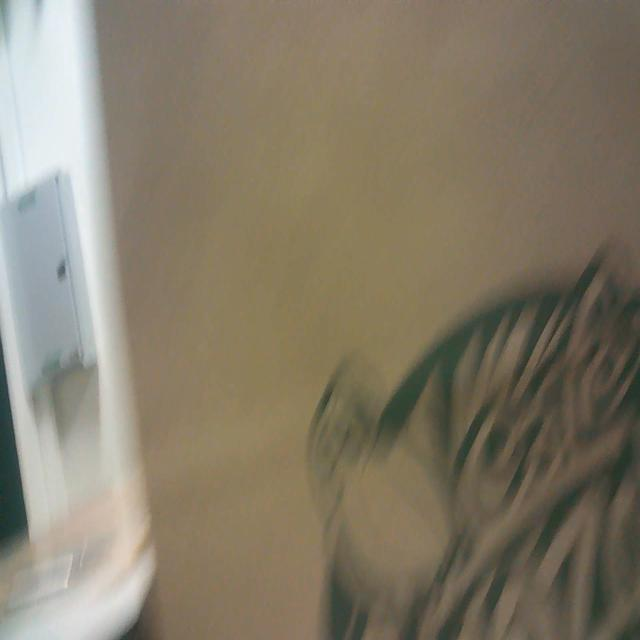bag: (80, 0, 640, 640)
